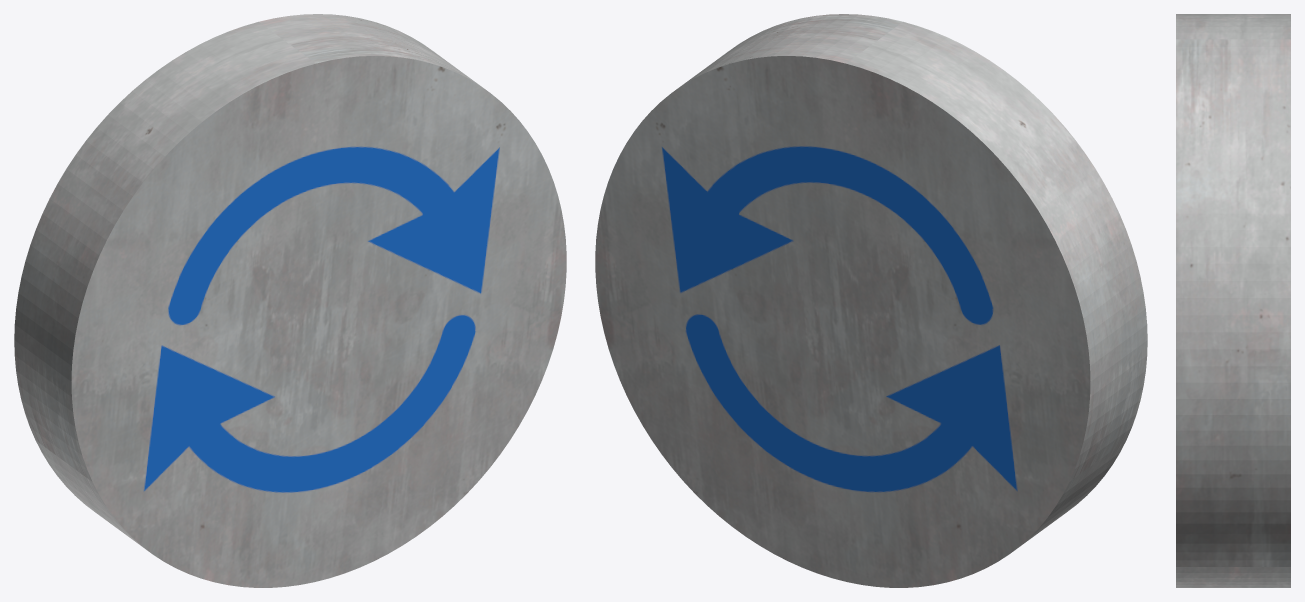
Rendered from Reset.fbx.
3 views of the same model, side by side, from view 1: azimuth 30°, elevation 25°; view 2: azimuth 150°, elevation 25°; view 3: azimuth 270°, elevation 25° (orthographic).
Visible parts, largest first — view 1: Reset; view 2: Reset; view 3: Reset.
Part boxes in pixels (<box>): Reset: <box>14,14,566,587</box>; Reset: <box>595,14,1147,587</box>; Reset: <box>1176,14,1290,587</box>.
Size of the model in its own units: 0.1 by 0.1 by 0.02.
